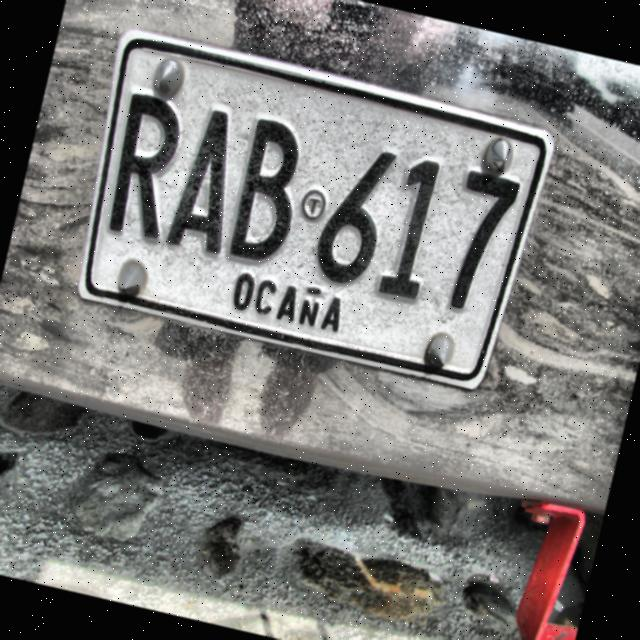1: (372, 152, 455, 314)
6: (307, 138, 407, 294)
7: (433, 162, 522, 317)
A: (161, 101, 257, 259)
B: (219, 111, 317, 273)
R: (99, 86, 195, 243)
